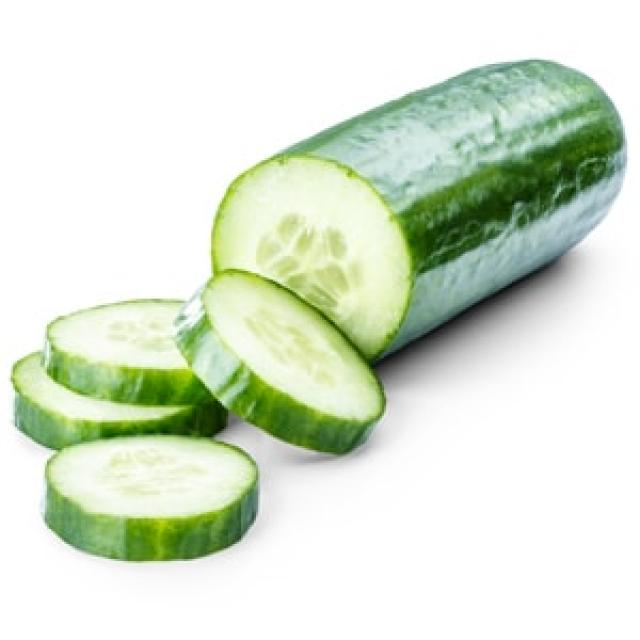Pickle: (212, 60, 625, 359), (176, 271, 385, 453), (45, 435, 259, 559), (12, 352, 228, 448), (45, 301, 212, 404)
